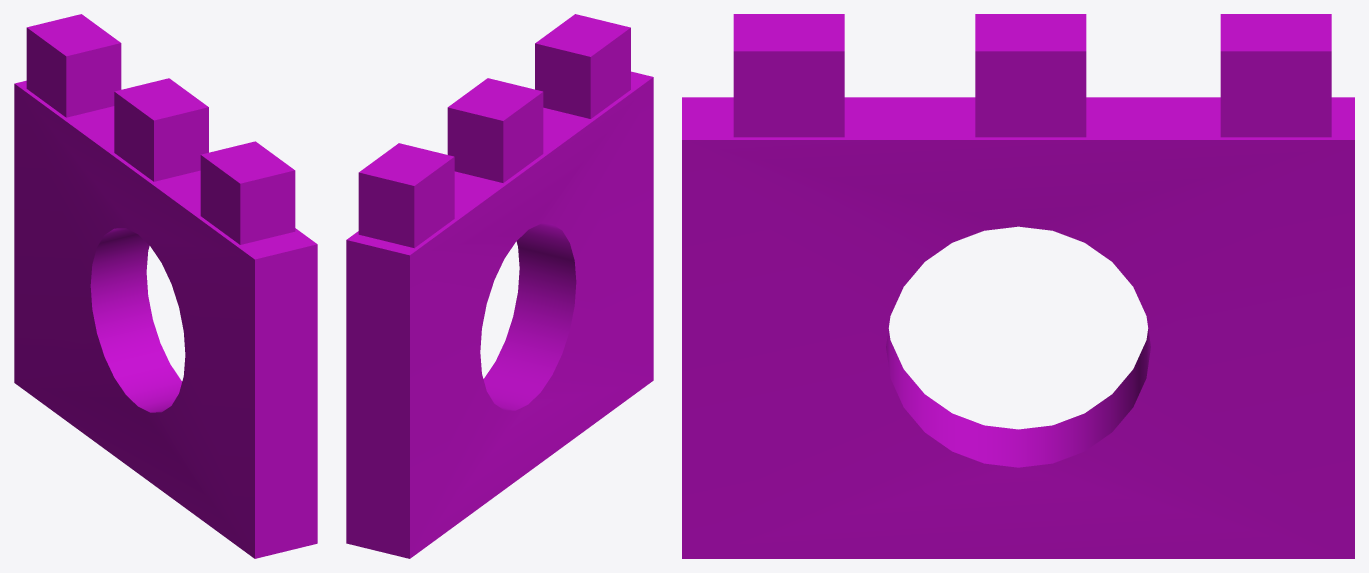
The model's file is Tower4.fbx.
3 views of the same model, side by side, from view 1: azimuth 30°, elevation 25°; view 2: azimuth 150°, elevation 25°; view 3: azimuth 270°, elevation 25° (orthographic). The views are drawn at different scales.
Parts seen in each view (by area): view 1: Cube.036; view 2: Cube.036; view 3: Cube.036.
Part boxes in pixels (x1,y1,x2,y2): Cube.036: (14,14,317,558); Cube.036: (346,14,653,558); Cube.036: (682,14,1354,558).
Size of the model in its own units: 0.7595 by 5.05 by 4.18.
